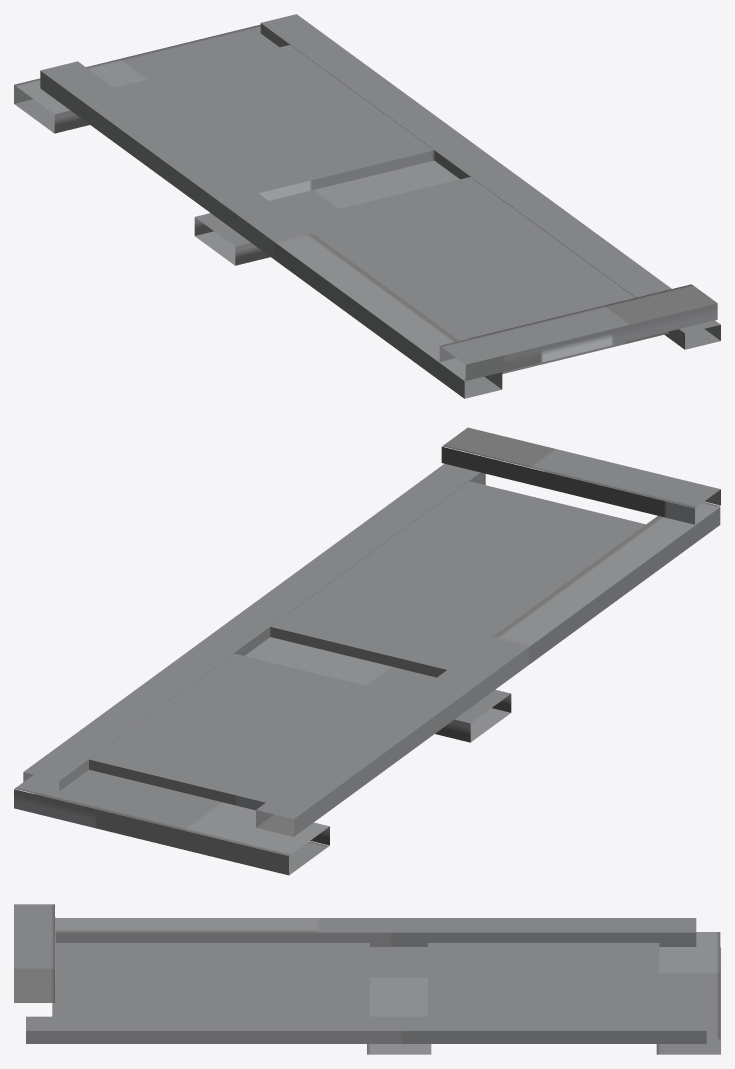
3 views of the same model, one above another, from view 1: azimuth 30°, elevation 25°; view 2: azimuth 150°, elevation 25°; view 3: azimuth 270°, elevation 25° (orthographic). The views are drawn at different scales.
Size of the model in its own units: 0.7268 by 0.15 by 2.03.
